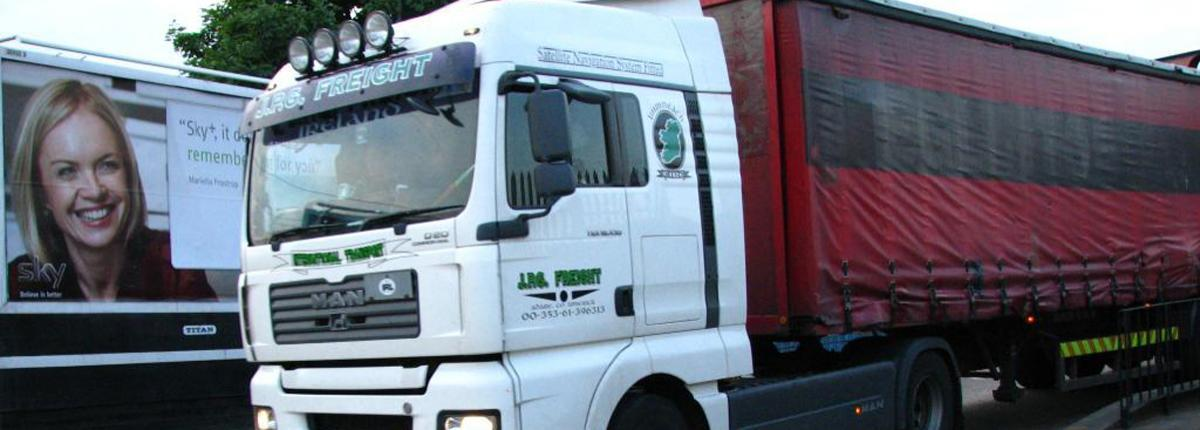truck: (237, 1, 1200, 430)
